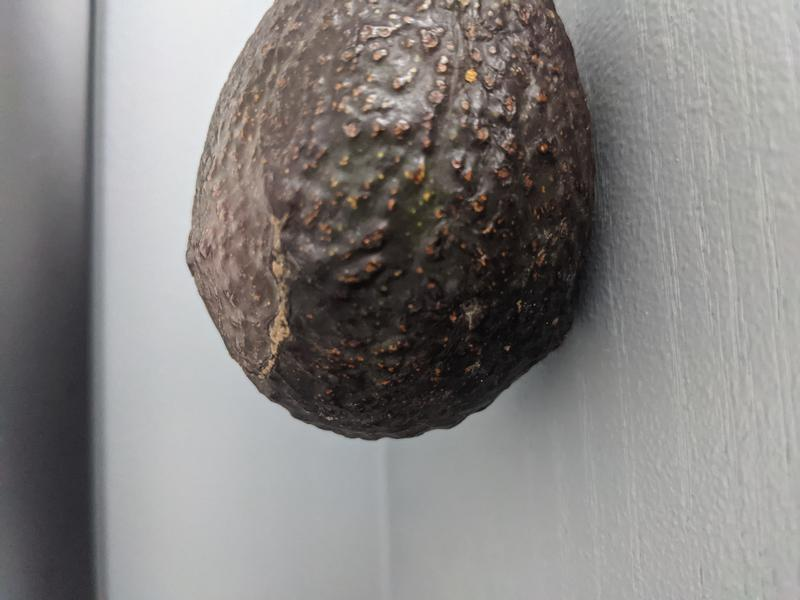avocado: (183, 3, 597, 440)
